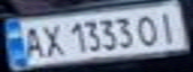1: (63, 19, 87, 54)
3: (112, 14, 139, 50), (96, 16, 121, 52), (81, 17, 103, 53)
A: (18, 24, 48, 61)
I: (151, 8, 184, 44)
O: (133, 11, 163, 46)
X: (36, 20, 66, 58)
